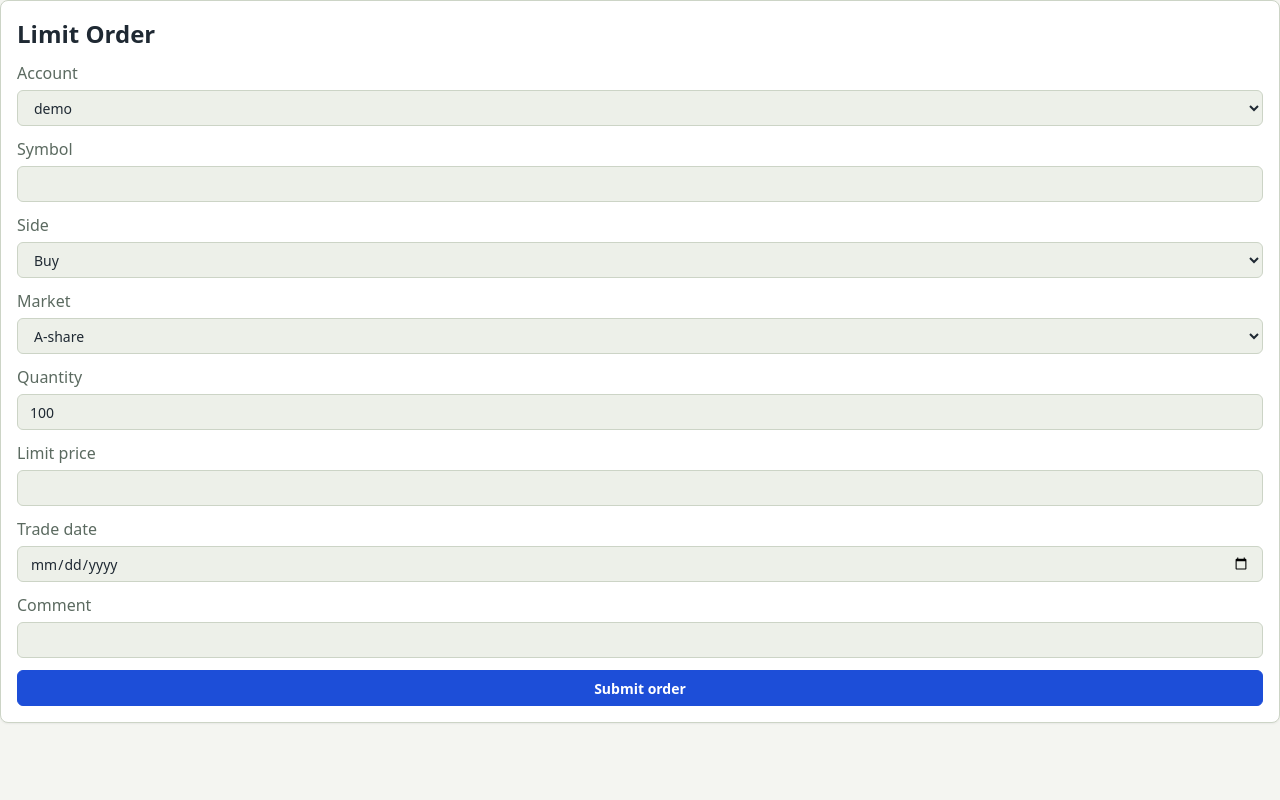
it: OrderForm › warns for non-lot quantities
expect the dropdown labelled "Market" shows "A-share": met, box [17,318,1263,354]
Replace the text in the number field labelled "Quantity" with "101" at (640, 412), box [17,394,1263,430]
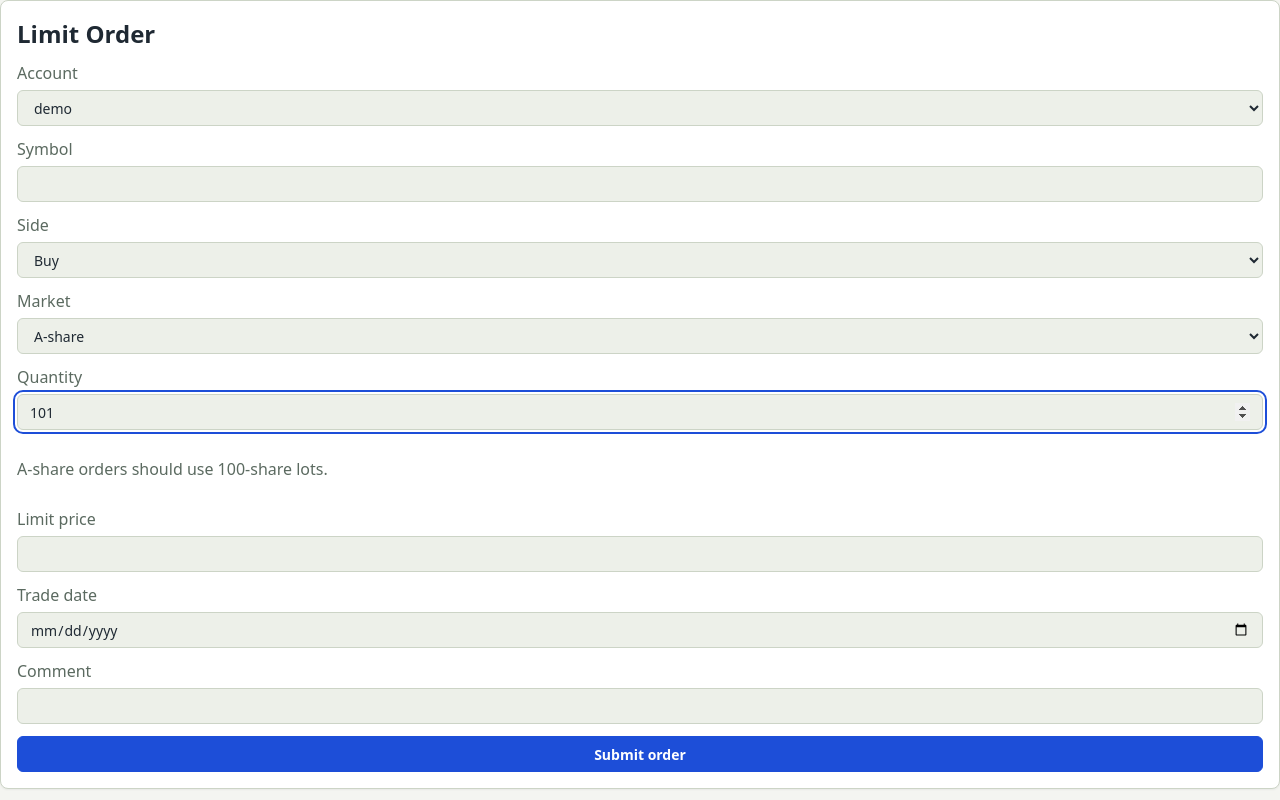
expect the text "A-share orders should use 100-share lots." is shown: met, box [17,458,328,480]
Select "Hong Kong Connect" in the dropdown labelled "Market" at (640, 336), box [17,318,1263,354]
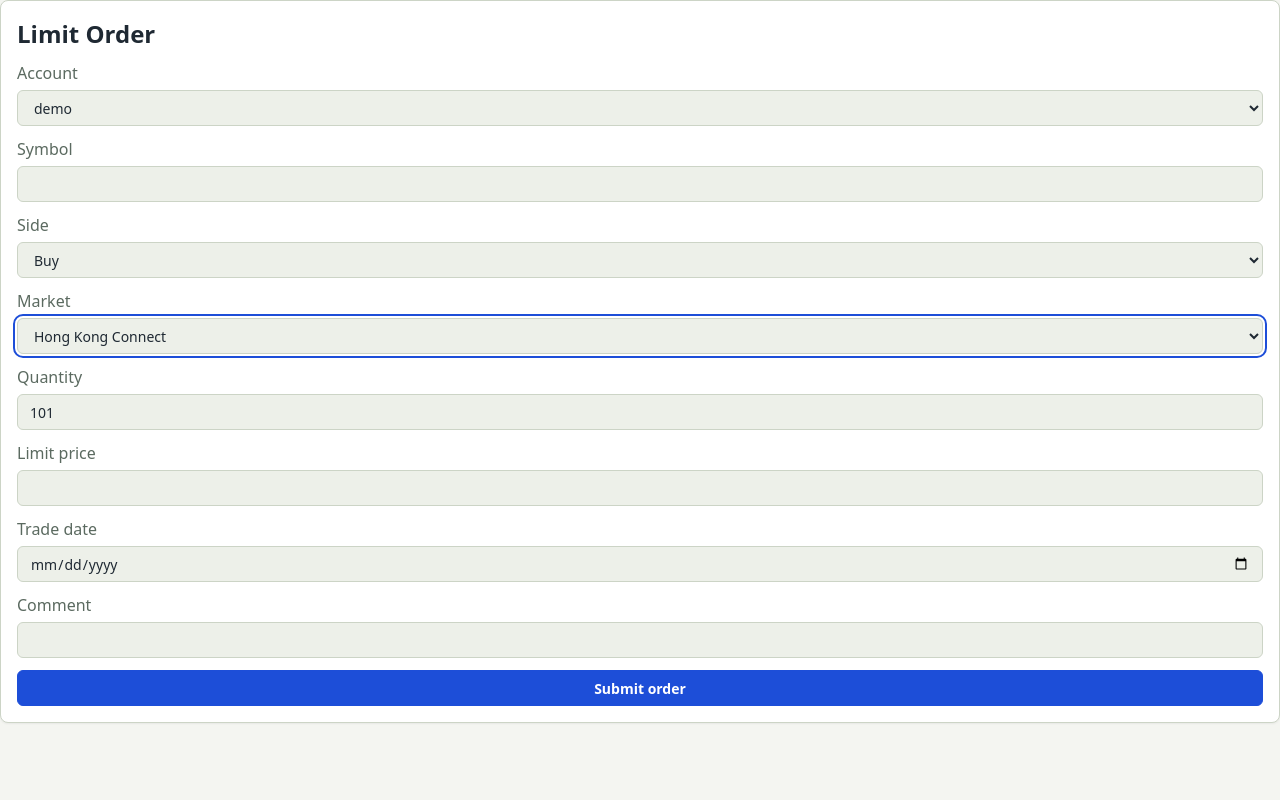
expect the text "A-share orders should use 100-share lots." is gone: met
